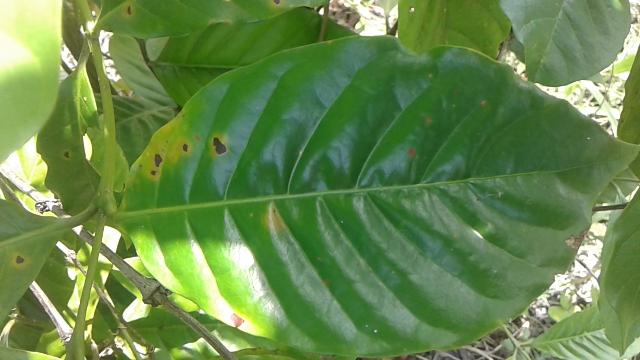rust_level_2: (120, 29, 640, 360)
